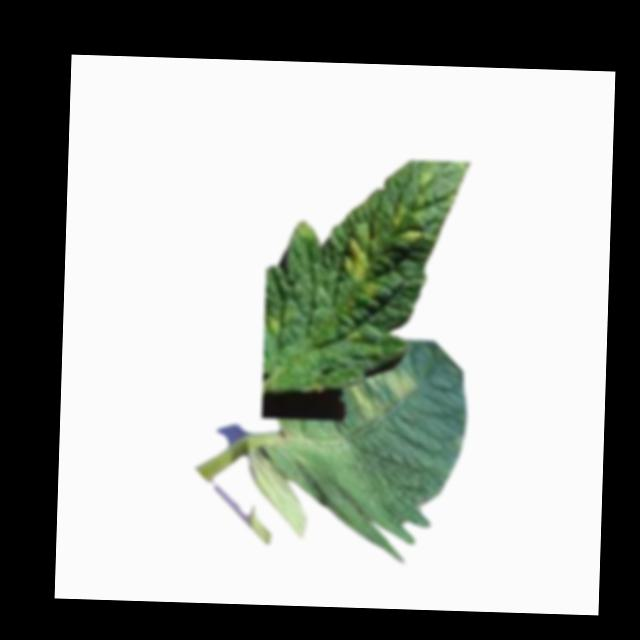Leaf_Mold: (341, 224, 385, 298), (391, 200, 429, 246), (347, 384, 390, 422), (384, 369, 418, 400)
